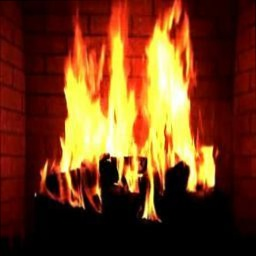fire: (45, 0, 225, 219)
